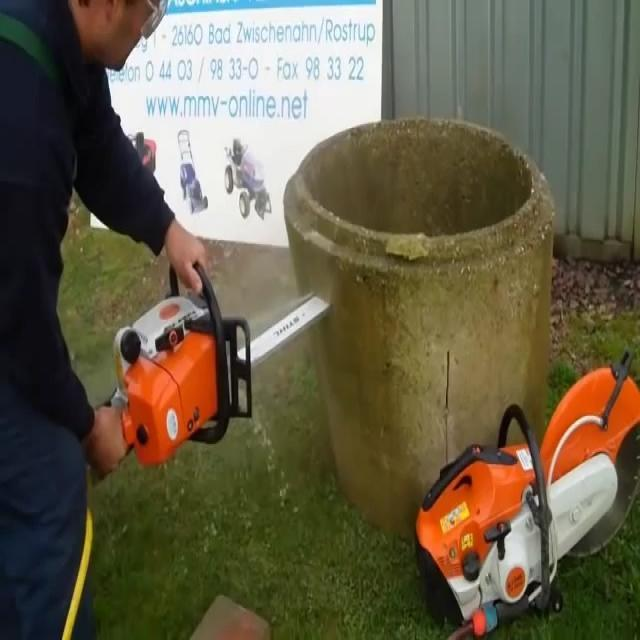Chainsaw: (77, 223, 367, 503)
